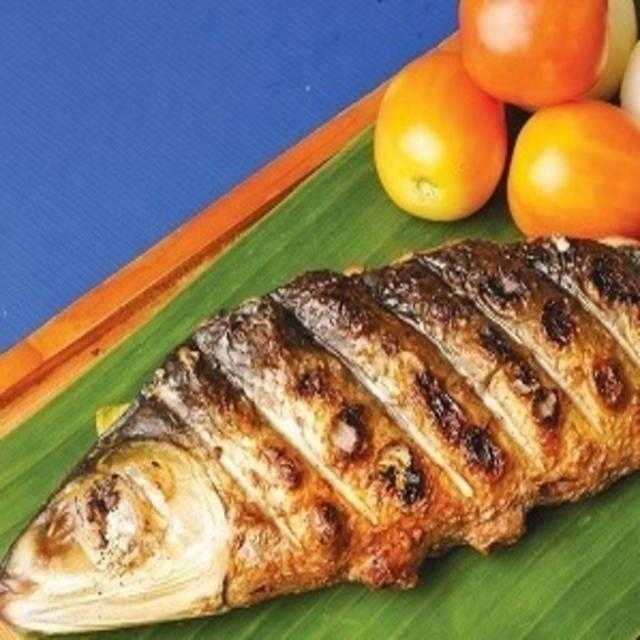Bangus: (57, 177, 640, 639)
